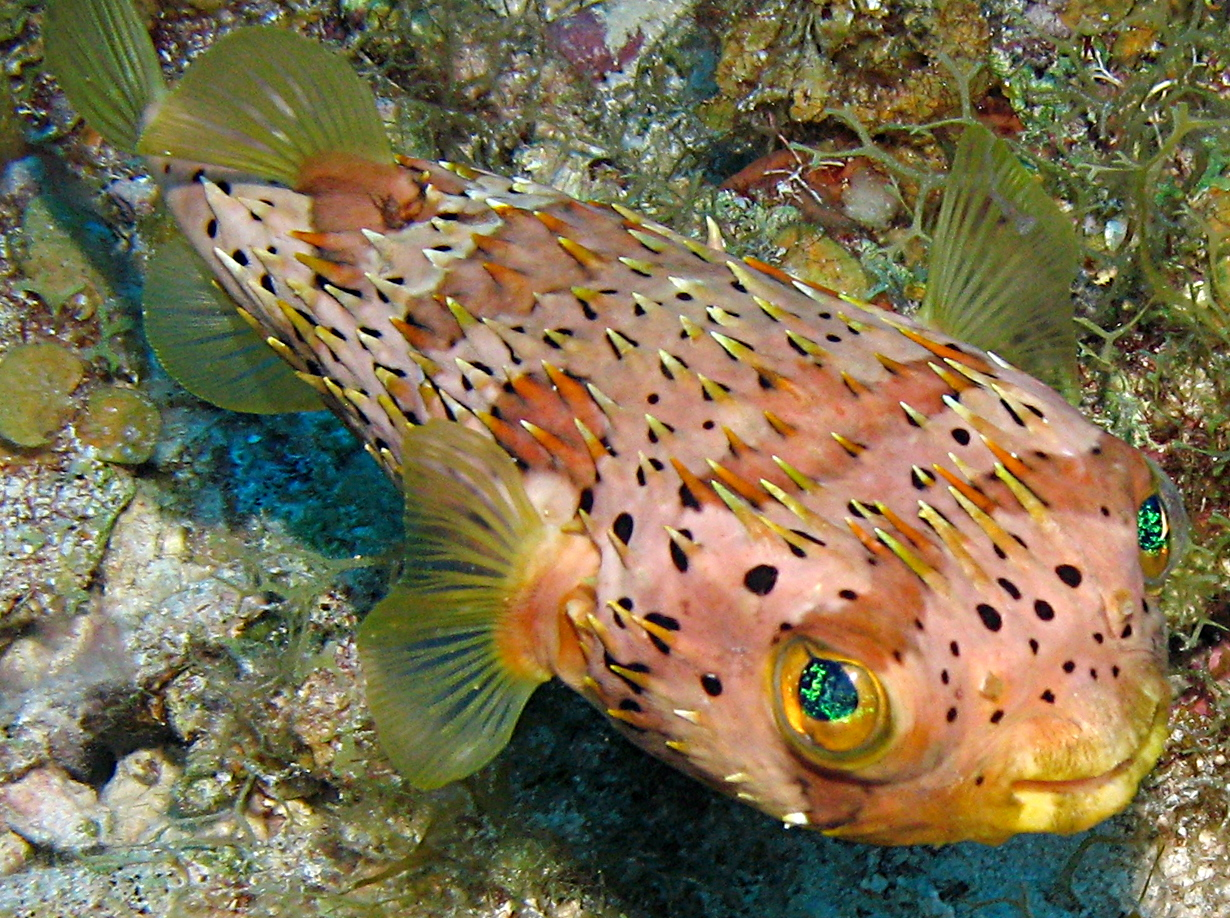Diodon_holocanthus: (137, 87, 1230, 864)
